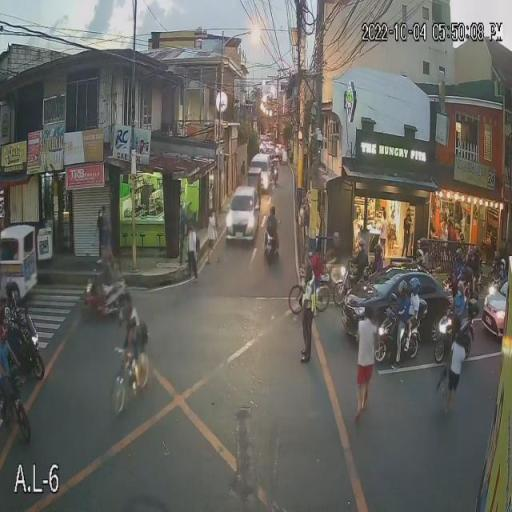helmet: (454, 287, 465, 298), (397, 282, 407, 293), (409, 278, 419, 288)
motorcycle: (0, 294, 44, 380), (380, 309, 426, 365), (82, 275, 130, 325), (432, 307, 474, 363), (262, 223, 280, 263)
rider: (384, 280, 412, 342), (94, 255, 122, 306), (402, 278, 424, 337), (0, 301, 20, 358), (450, 279, 468, 332), (264, 206, 280, 252)
